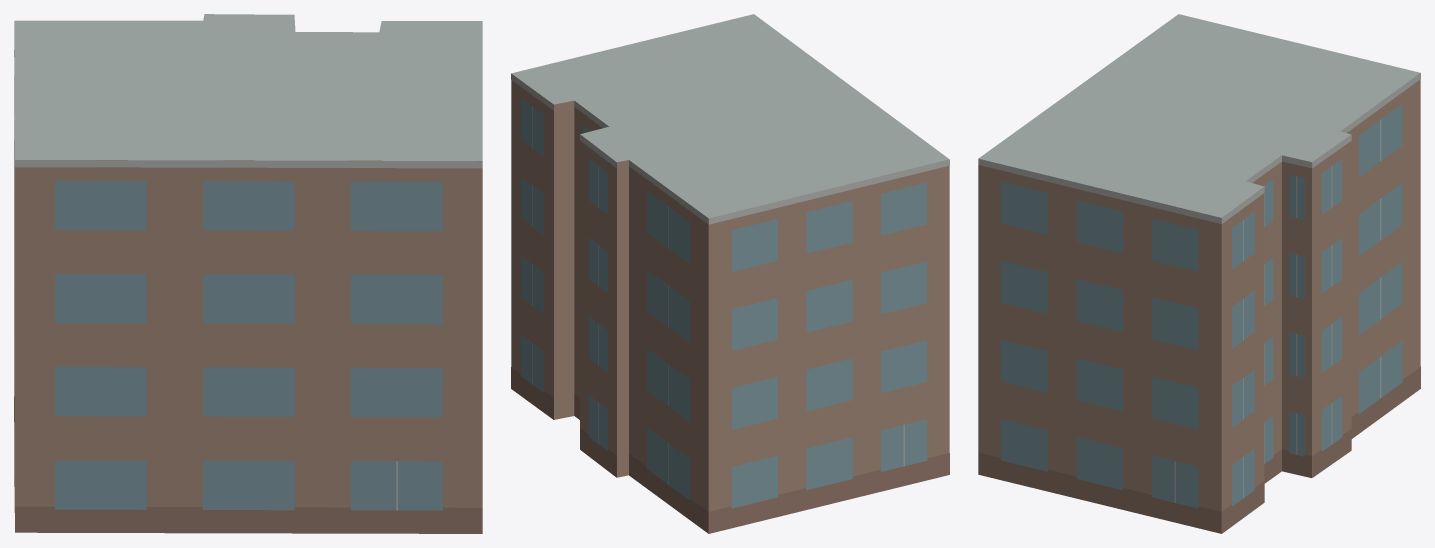
The model's file is survey-upis-32705784.glb.
3 renders of one model, left to right at view 1: azimuth 30°, elevation 25°; view 2: azimuth 150°, elevation 25°; view 3: azimuth 270°, elevation 25°, orthographic. The views are drawn at different scales.
Visible parts, largest first — view 1: survey-upis-32705784.tmp; view 2: survey-upis-32705784.tmp; view 3: survey-upis-32705784.tmp.
Boxes of the visible parts, left/top/right/bottom form: survey-upis-32705784.tmp: left=14, top=14, right=482, bottom=533; survey-upis-32705784.tmp: left=511, top=14, right=949, bottom=533; survey-upis-32705784.tmp: left=978, top=14, right=1420, bottom=533.
Bounding box in the file's own units: 17.17 × 12.4 × 15.75.
